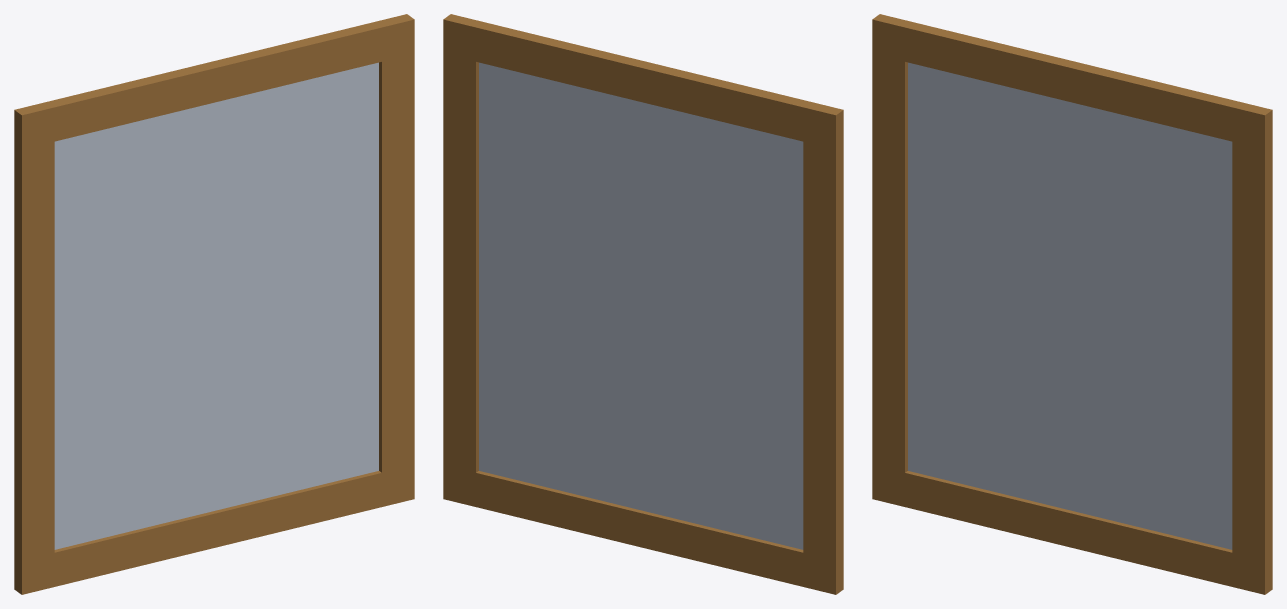
File: glass_door_v1.glb
3 renders of one model, left to right at view 1: azimuth 30°, elevation 25°; view 2: azimuth 150°, elevation 25°; view 3: azimuth 330°, elevation 25°, orthographic.
Parts seen in each view (by area): view 1: world; view 2: world; view 3: world.
Part boxes in pixels (left/top/right/bottom): world: left=14, top=14, right=414, bottom=594; world: left=443, top=14, right=843, bottom=594; world: left=872, top=14, right=1272, bottom=594.
Size of the model in its own units: 60 by 70 by 2.
